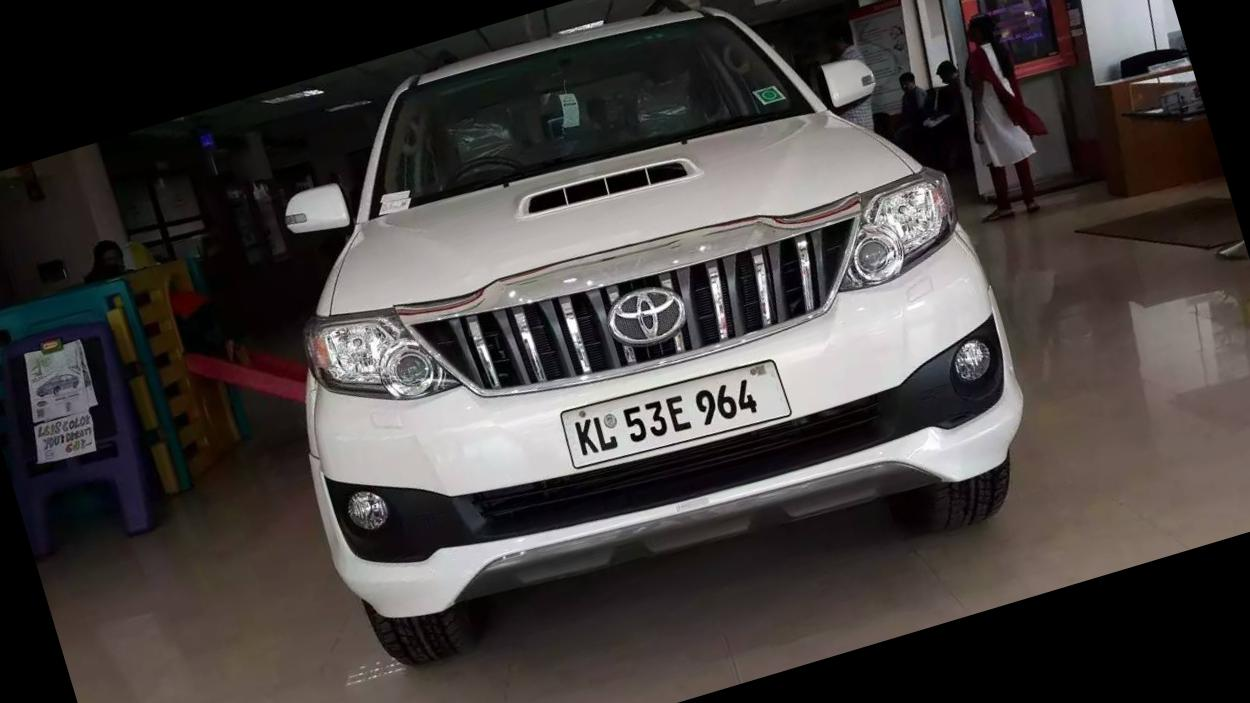plate: (546, 335, 806, 493)
